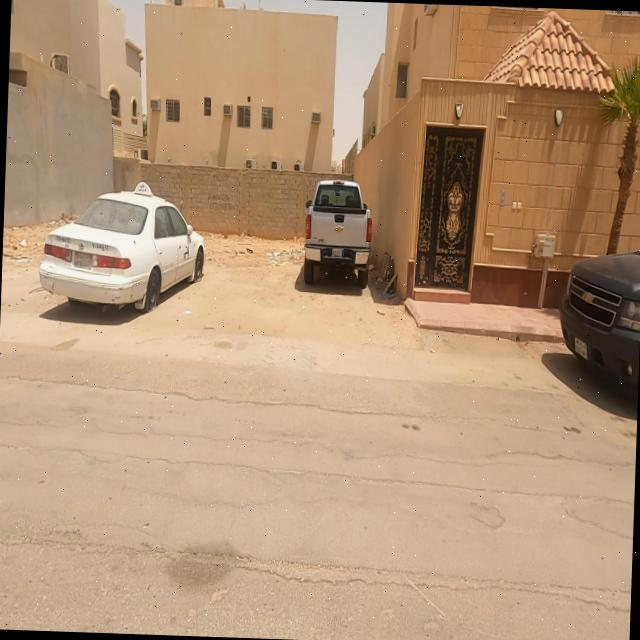Graffiti: (208, 191, 238, 215)
